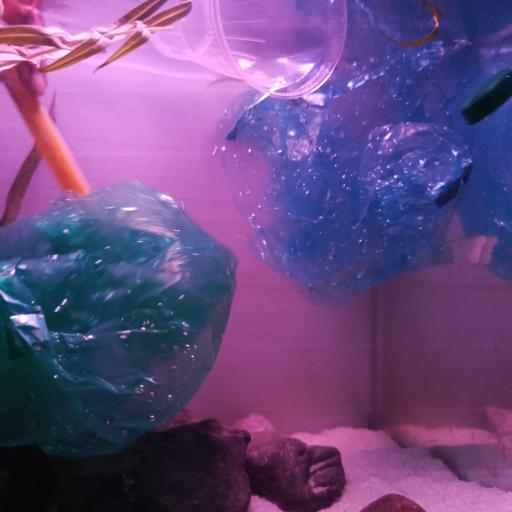bottle_cap: (460, 68, 512, 124)
plastic_bag: (218, 0, 512, 309), (0, 183, 239, 457)
plastic_cup: (146, 0, 348, 100)
plastic_straw: (0, 67, 91, 198)
